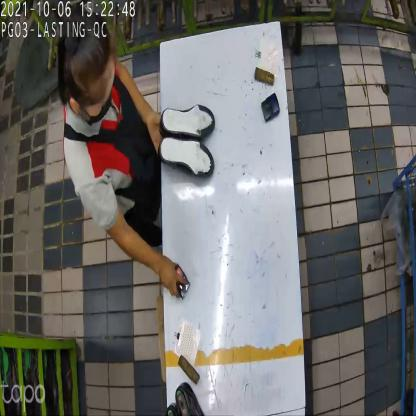shoes: (157, 100, 219, 182)
stamp: (262, 91, 282, 124), (173, 268, 191, 301)
